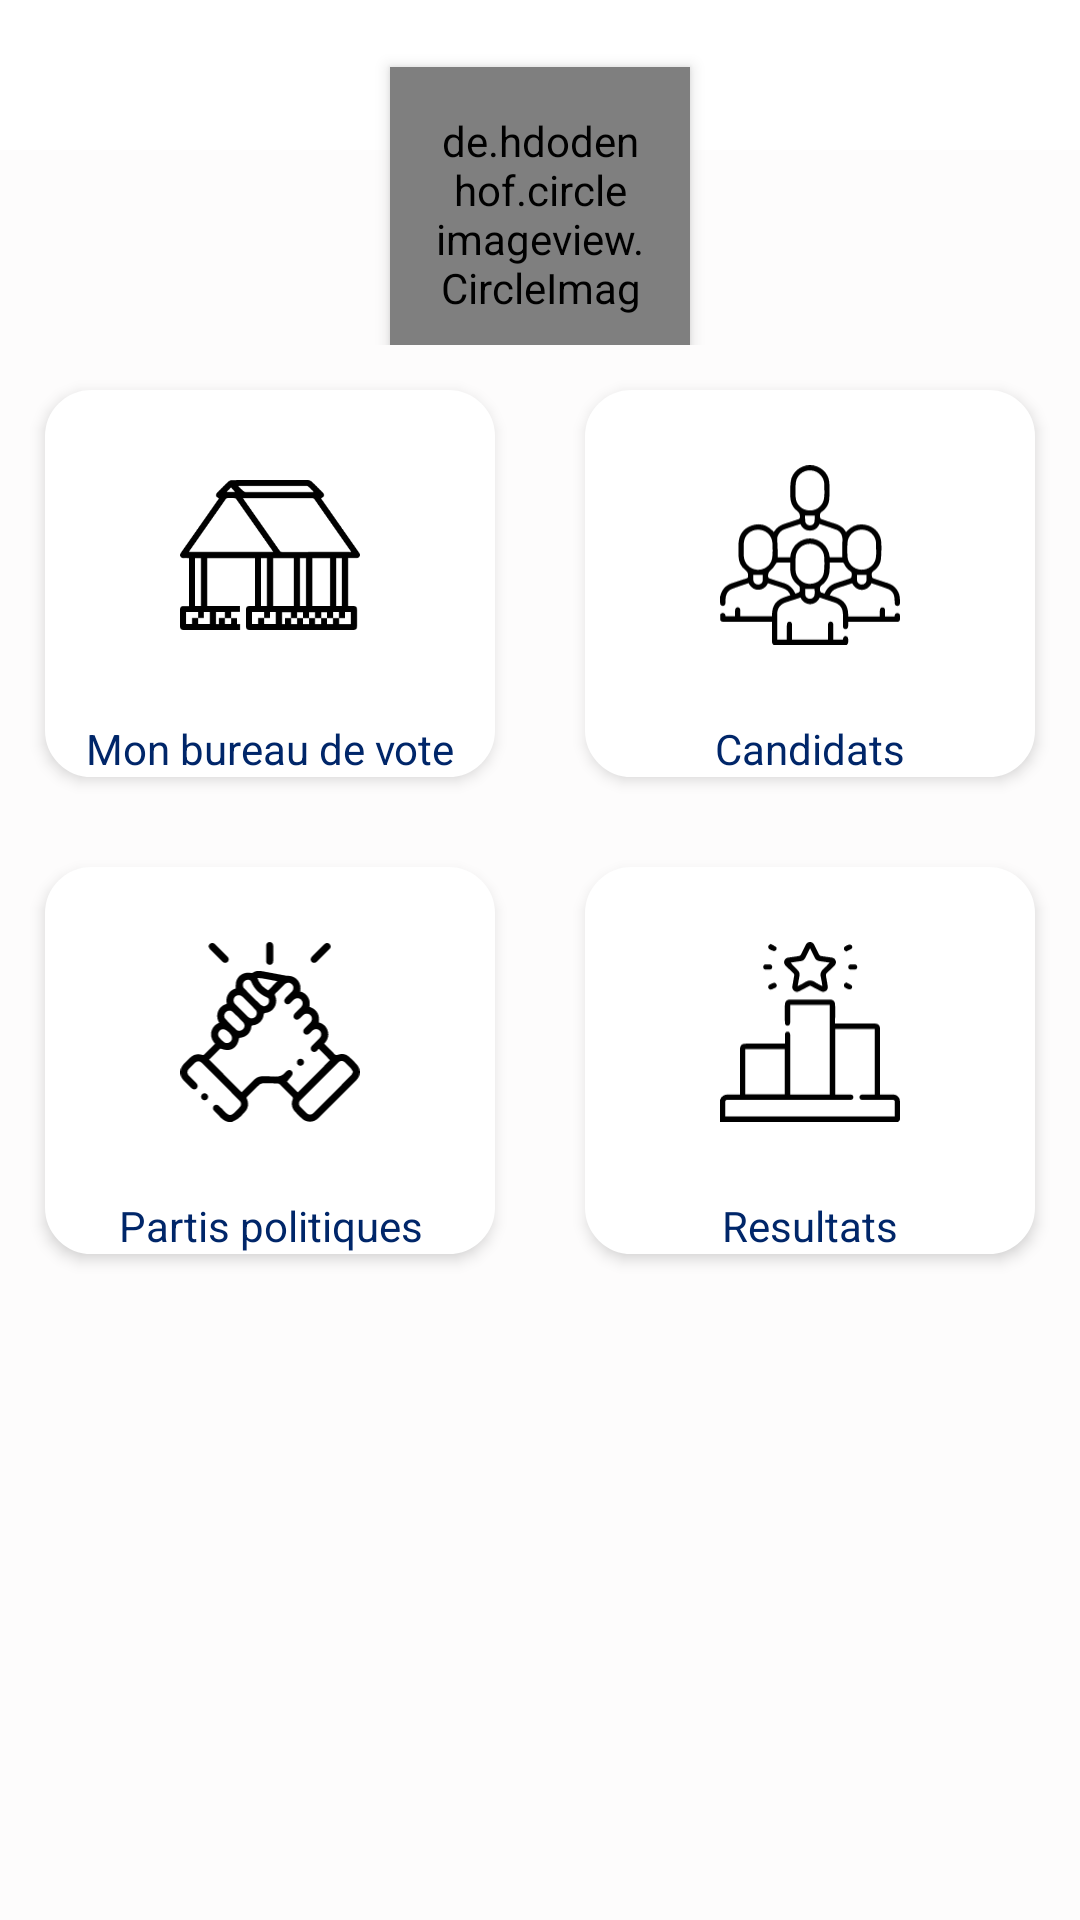

Point at icon controls on the screen. Image size 1080x1920, points as [x,y].
hut: [270,555]
ranking: [810,1032]
support: [270,1032]
team: [810,555]
